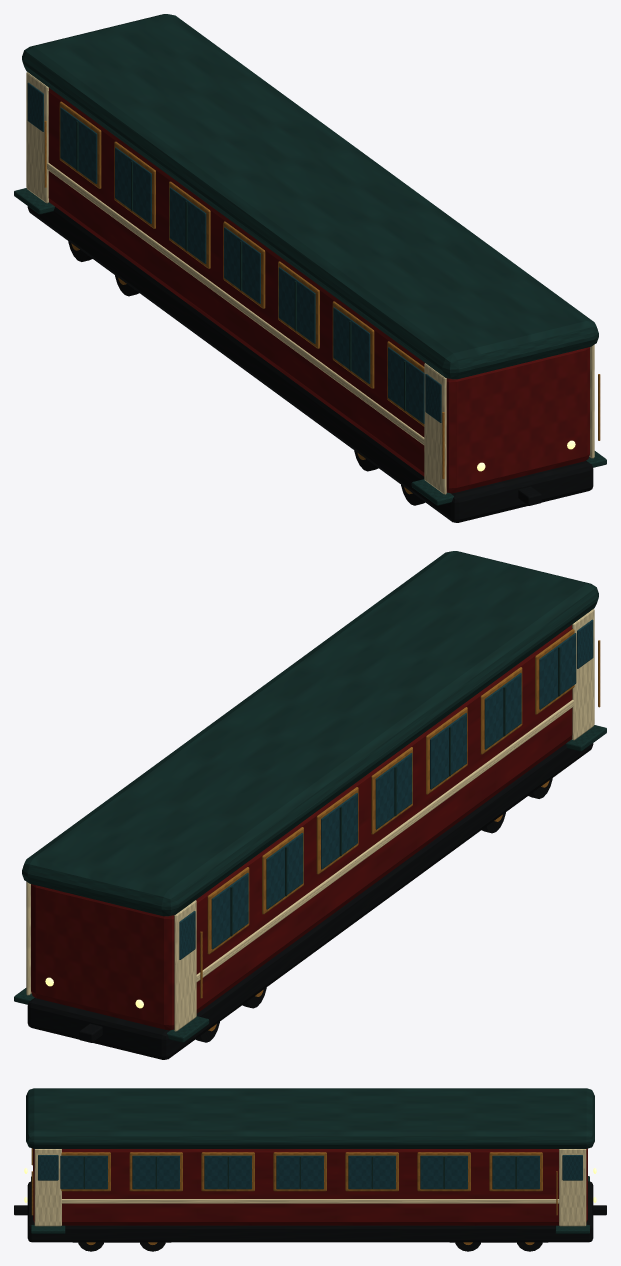
Rendered from station-train-v1-DT1EYjpa.glb.
3 views of the same model, one above another, from view 1: azimuth 30°, elevation 25°; view 2: azimuth 150°, elevation 25°; view 3: azimuth 270°, elevation 25° (orthographic). The views are drawn at different scales.
Visible parts, largest first — view 1: Arched carriage roof, Burgundy carriage, Coach underframe, Passenger window, Cream waist stripe, Window brass surround; view 2: Arched carriage roof, Burgundy carriage, Coach underframe, Passenger window, Cream waist stripe, Window brass surround; view 3: Arched carriage roof, Burgundy carriage, Passenger window, Coach underframe, Cream waist stripe, Window brass surround.
Part boxes in pixels (box(x1,y1,x2,y2)): Arched carriage roof: box(14, 14, 606, 505); Burgundy carriage: box(48, 88, 589, 493); Coach underframe: box(27, 206, 593, 522); Passenger window: box(27, 82, 441, 423); Cream waist stripe: box(26, 72, 594, 494); Window brass surround: box(44, 101, 600, 494); Arched carriage roof: box(14, 551, 606, 1042); Burgundy carriage: box(31, 625, 572, 1030); Coach underframe: box(27, 743, 593, 1059); Passenger window: box(179, 619, 593, 959); Cream waist stripe: box(26, 609, 594, 1031); Window brass surround: box(200, 629, 600, 1031); Arched carriage roof: box(26, 1088, 594, 1233); Burgundy carriage: box(33, 1148, 587, 1225); Passenger window: box(38, 1155, 582, 1189); Coach underframe: box(14, 1181, 606, 1251); Cream waist stripe: box(34, 1149, 586, 1226); Window brass surround: box(31, 1148, 557, 1244).
Bounding box in the file's own units: 3.78 × 3.87 × 17.3.
Materials: 7 (7 with a texture image).
